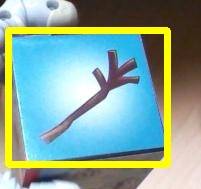Blue4: (8, 30, 167, 164)
